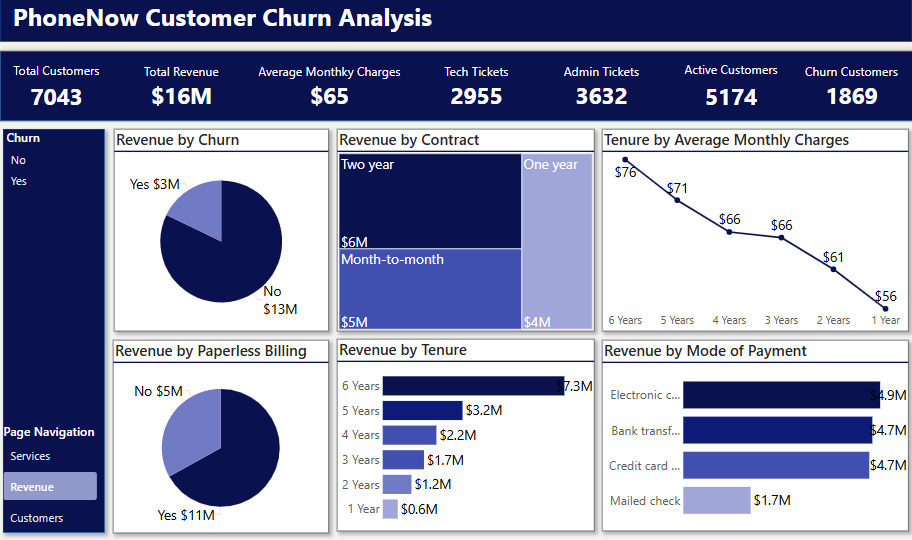

The dashboard page shown, as its layout file describes it:
{"tool":"powerbi","page":{"name":"Revenue","canvas":[2700,1600],"ordinal":1},"visuals":[{"type":"shape","box":[0,0,2702.1,129.5],"z":0},{"type":"shape","box":[9.1,386.1,300,1191.6],"z":1000},{"type":"textbox","box":[32.5,0,1290,126.9],"z":2000},{"type":"treemap","title":"Revenue by Contract","fields":{"Group":["01 Churn-Dataset.Contract"],"Values":["All Measures.Total Revenue"]},"box":[994,386.1,760.2,597.3],"z":3000},{"type":"pieChart","title":"Revenue by Paperless Billing","fields":{"Category":["01 Churn-Dataset.Paperless Billing"],"Y":["All Measures.Total Revenue"]},"box":[334.9,1010.6,636.5,570.2],"z":5000},{"type":"shape","box":[0,156.5,2701.1,206.6],"z":6000},{"type":"barChart","title":"Revenue by Mode of Payment","fields":{"Category":["01 Churn-Dataset.Payment Method"],"Y":["All Measures.Total Revenue"]},"box":[1776.9,1010.6,905,564.1],"z":7000},{"type":"cardVisual","fields":{"Data":["All Measures.Total Customers"]},"box":[0,156.5,333.6,206.6],"z":8000},{"type":"barChart","title":"Revenue by Tenure","fields":{"Y":["All Measures.Total Revenue"],"Category":["01 Churn-Dataset.Tenure Group"]},"box":[995.5,1007.6,760.2,567.2],"z":9000},{"type":"cardVisual","fields":{"Data":["All Measures.Churn Customers"]},"box":[2346.9,156.5,333.6,206.6],"z":10000},{"type":"pieChart","title":"Revenue by Churn","fields":{"Y":["All Measures.Total Revenue"],"Category":["01 Churn-Dataset.Churn"]},"box":[337.9,386.1,633.5,597.3],"z":11000},{"type":"cardVisual","fields":{"Data":["All Measures.Non-Churn Customers"]},"box":[1994.1,156.9,331.8,205.1],"z":12000},{"type":"lineChart","title":"Tenure by Average Monthly Charges","fields":{"Category":["01 Churn-Dataset.Tenure Group"],"Y":["All Measures.Average Monthky Charges"]},"box":[1776.9,386.1,905,597.3],"z":13000},{"type":"cardVisual","fields":{"Data":["All Measures.Total Revenue"]},"box":[368.5,156.5,333.6,206.6],"z":14000},{"type":"cardVisual","fields":{"Data":["All Measures.Total Tech Tickets"]},"box":[1241.3,156.5,333.6,206.6],"z":15000},{"type":"cardVisual","fields":{"Data":["All Measures.Average Monthky Charges"]},"box":[737,156.5,469.4,206.6],"z":16000},{"type":"cardVisual","fields":{"Data":["All Measures.Total Admin Tickets"]},"box":[1609.8,156.5,333.6,206.6],"z":17000},{"type":"pageNavigator","title":"Page Navigation","box":[0,1255,286.6,319.8],"z":18000},{"type":"advancedSlicerVisual","fields":{"Values":["01 Churn-Dataset.Churn"]},"box":[9.1,386.1,292.6,181],"z":19000}]}

Visuals, with their boxes in screenshot pixels (x1, y1, x2, y2), scaled from the page's 2700x1600 canvas onto the 912x540 screenshot:
shape: <region>0, 0, 911, 44</region>
shape: <region>3, 130, 104, 532</region>
textbox: <region>11, 0, 447, 43</region>
"Revenue by Contract" treemap: <region>336, 130, 593, 332</region>
"Revenue by Paperless Billing" pieChart: <region>113, 341, 328, 534</region>
shape: <region>0, 53, 911, 123</region>
"Revenue by Mode of Payment" barChart: <region>600, 341, 906, 531</region>
cardVisual - All Measures.Total Customers: <region>0, 53, 113, 123</region>
"Revenue by Tenure" barChart: <region>336, 340, 593, 531</region>
cardVisual - All Measures.Churn Customers: <region>793, 53, 905, 123</region>
"Revenue by Churn" pieChart: <region>114, 130, 328, 332</region>
cardVisual - All Measures.Non-Churn Customers: <region>674, 53, 786, 122</region>
"Tenure by Average Monthly Charges" lineChart: <region>600, 130, 906, 332</region>
cardVisual - All Measures.Total Revenue: <region>124, 53, 237, 123</region>
cardVisual - All Measures.Total Tech Tickets: <region>419, 53, 532, 123</region>
cardVisual - All Measures.Average Monthky Charges: <region>249, 53, 407, 123</region>
cardVisual - All Measures.Total Admin Tickets: <region>544, 53, 656, 123</region>
"Page Navigation" pageNavigator: <region>0, 424, 97, 531</region>
advancedSlicerVisual - 01 Churn-Dataset.Churn: <region>3, 130, 102, 191</region>
